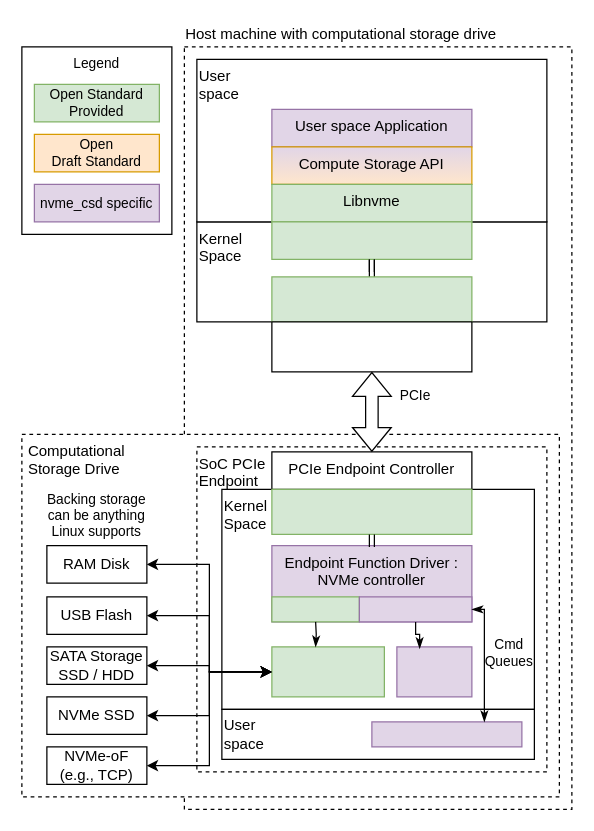
The diagram is 594 pixels wide and 831 high, and some of its shapes have lost their labels. Each missing label, with the centre of its shape:
Computational App: (446,734)
Compute Thread: (434,671)
Custom Cmds: (415,609)
Normal IO: (315,609)
NVMe driver: (371,240)
NVMe target + Block IO: (327,671)
PCIe Endpoint Controller Driver: (371,511)
PCIe Host Controller (Root Complex): (371,346)
PCIe Host Controller Driver: (371,299)
